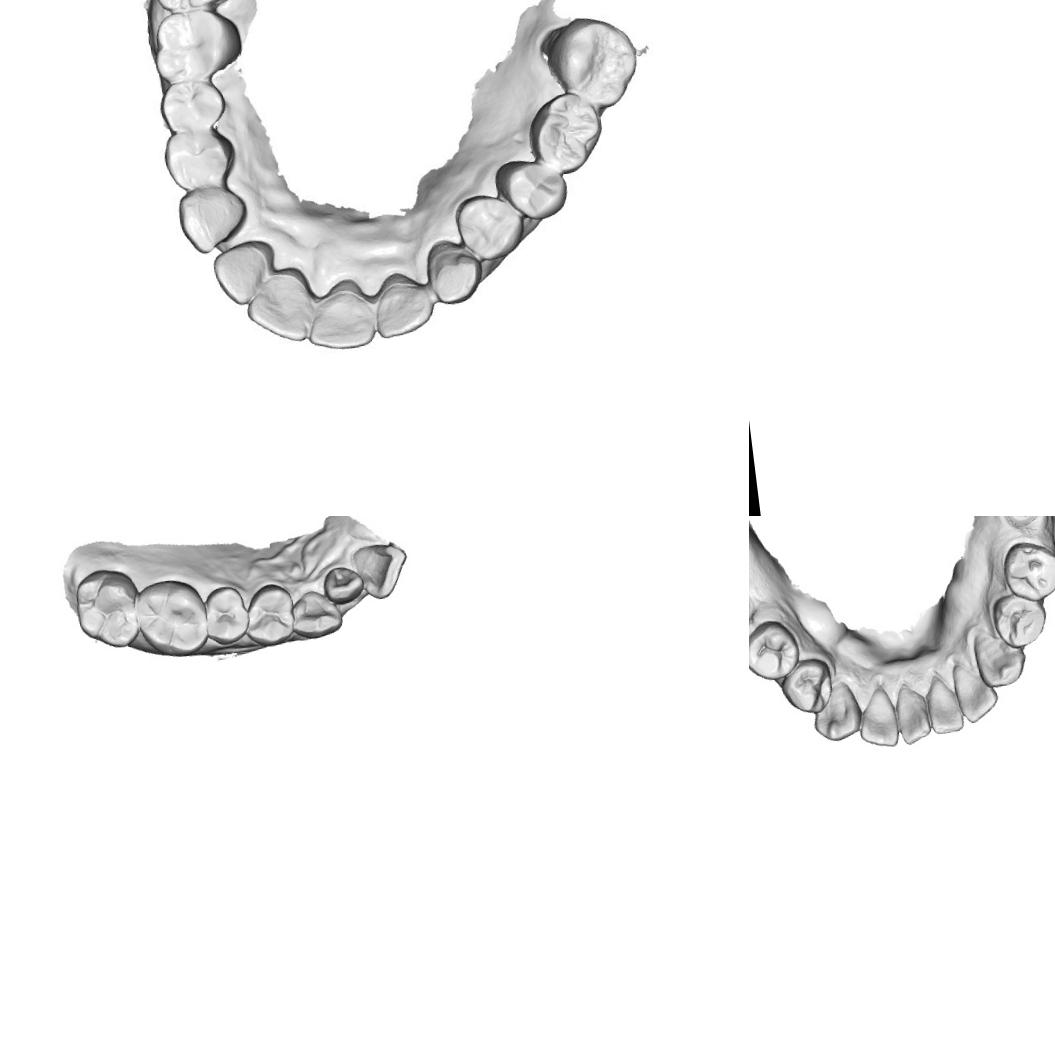canine: (172, 182, 254, 258), (422, 234, 487, 310), (970, 623, 1030, 690), (808, 677, 864, 744), (288, 586, 346, 642)
implant_minus: (997, 516, 1043, 531)
incisor: (240, 266, 322, 348), (300, 274, 378, 355), (209, 236, 280, 310), (368, 266, 438, 341), (350, 539, 412, 603), (950, 658, 1002, 726), (853, 683, 901, 750), (890, 680, 934, 748), (922, 671, 967, 736), (321, 563, 367, 606)
molar: (543, 8, 644, 116), (147, 2, 246, 86), (524, 88, 610, 178), (134, 575, 209, 662), (72, 565, 144, 653), (148, 0, 249, 17)
premolar: (452, 189, 527, 265), (162, 126, 236, 195), (497, 156, 572, 222), (156, 78, 230, 135), (988, 588, 1051, 652), (776, 654, 838, 718), (241, 581, 298, 650), (999, 536, 1055, 605), (199, 582, 253, 649), (749, 617, 803, 684)
